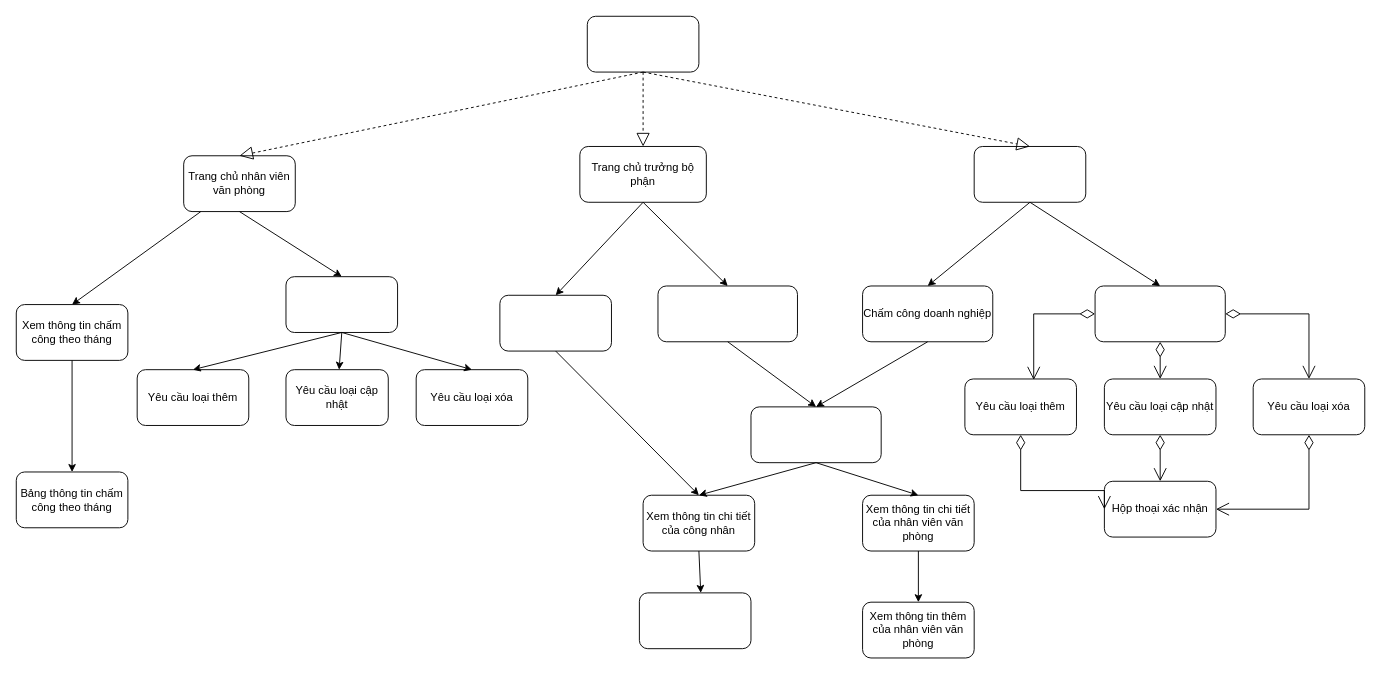
The diagram is 1381 pixels wide and 674 high, and some of its shapes have lost their labels. The shapes that lost their labels are listed below. From the top down, each one's box as (x1, y1, x2, y2) in pixels, then its label:
(586, 15, 699, 72): Đăng nhập
(973, 146, 1086, 202): Trang chủ Quản lý nhân sự
(285, 276, 398, 332): Xem bảng chấm công tháng
(499, 294, 611, 351): Xem chấm công bộ phận nhà máy
(657, 285, 797, 342): Xem chấm công nhân viên
(1094, 285, 1225, 342): Xử lý yêu cầu chấm công
(750, 406, 881, 463): Thông tin chấm công của nhân viên
(638, 592, 751, 649): Xem thông tin thêm của công nhân
